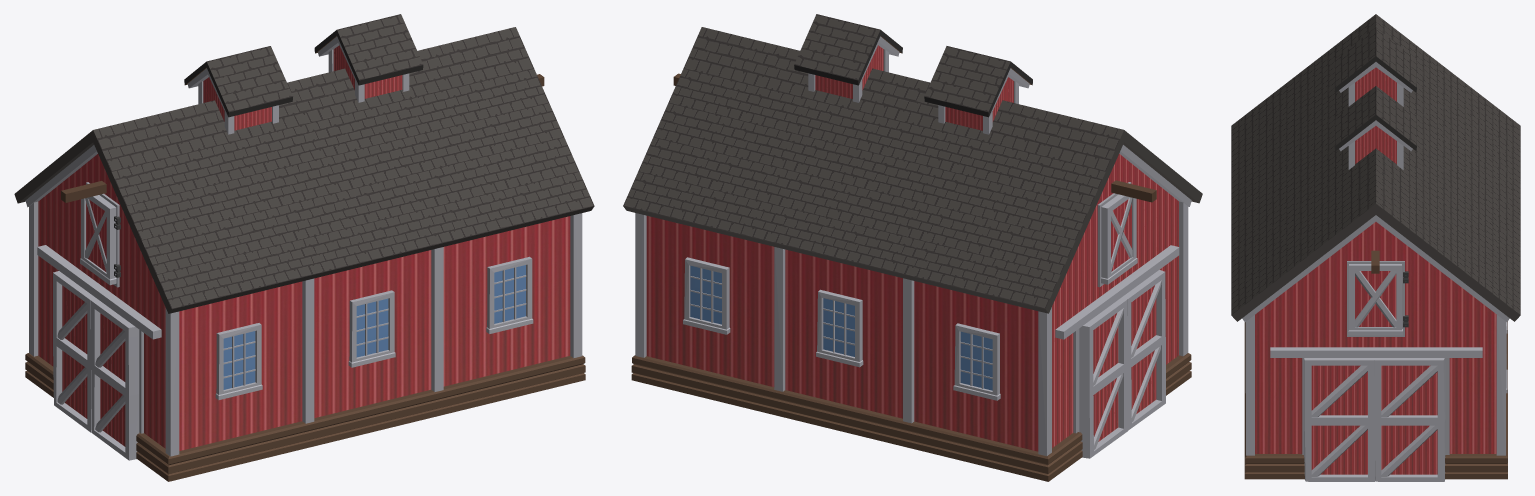
File: Barn.fbx
3 views of the same model, side by side, from view 1: azimuth 30°, elevation 25°; view 2: azimuth 150°, elevation 25°; view 3: azimuth 270°, elevation 25° (orthographic). The views are drawn at different scales.
Parts seen in each view (by area): view 1: Barn; view 2: Barn; view 3: Barn.
Part boxes in pixels (left/top/right/bottom): Barn: left=14, top=14, right=594, bottom=481; Barn: left=623, top=14, right=1202, bottom=481; Barn: left=1231, top=14, right=1520, bottom=481.
Bounding box in the file's own units: 1332 × 911 × 759.
